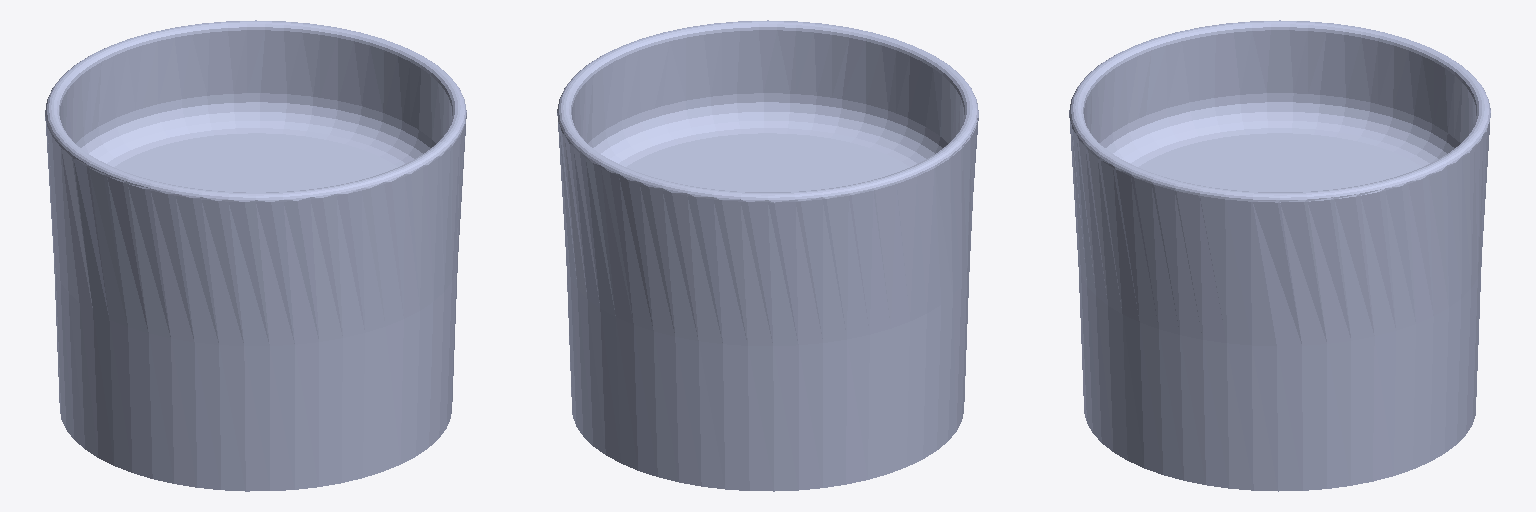
robot.urdf — Part1.SLDPRT:
<?xml version="1.0" encoding="utf-8"?>
<!-- This URDF was automatically created by SolidWorks to URDF Exporter! Originally created by [author] ([email redacted]) 
     Commit Version: 1.5.1-0-g916b5db  Build Version: 1.5.7152.31018
     For more information, please see http://wiki.ros.org/sw_urdf_exporter -->
<robot
  name="Part1.SLDPRT">
  <link
    name="backet_cup_new">
    <inertial>
      <origin
        xyz="-5.9266E-08 -1.70029999997474E-07 0.041251"
        rpy="0 0 0" />
      <mass
        value="1.101" />
      <inertia
        ixx="0.0019548"
        ixy="-6.8051E-09"
        ixz="-1.9739E-09"
        iyy="0.0019547"
        iyz="5.66300000003746E-09"
        izz="0.0025665" />
    </inertial>
    <visual>
      <origin
        xyz="0 0 0"
        rpy="1.5707963267949 0 0" />
      <geometry>
        <mesh
          filename="package://backet_cup_new/meshes/backet_cup_new.STL" />
      </geometry>
      <material
        name="">
        <color
          rgba="0.79216 0.81961 0.93333 1" />
        <texture
          filename="package://backet_cup_new/textures/" />
      </material>
    </visual>
    <collision>
      <origin
        xyz="0 0 0"
        rpy="1.5707963267949 0 0" />
      <geometry>
        <mesh
          filename="package://backet_cup_new/meshes/backet_cup_new.STL" />
      </geometry>
    </collision>
  </link>
</robot>

--- Render facts (derived) ---
The picture shows the robot from 3 angles, left to right: view 1: azimuth 30°, elevation 25°; view 2: azimuth 150°, elevation 25°; view 3: azimuth 270°, elevation 25°; orthographic projection.
Model Part1.SLDPRT with 1 links and 0 joints (none), rooted at backet_cup_new, posed all joints at 0.
Links seen in each view (by area): view 1: backet_cup_new; view 2: backet_cup_new; view 3: backet_cup_new.
Boxes of the visible links, x1=… form: backet_cup_new: x1=45, y1=20, x2=466, y2=491; backet_cup_new: x1=557, y1=20, x2=978, y2=491; backet_cup_new: x1=1069, y1=20, x2=1490, y2=491.
Size in the robot's own frame: 0.1397 by 0.1396 by 0.11 metres.
1 mesh visuals loaded from 1 distinct referenced files (1 binary STL).